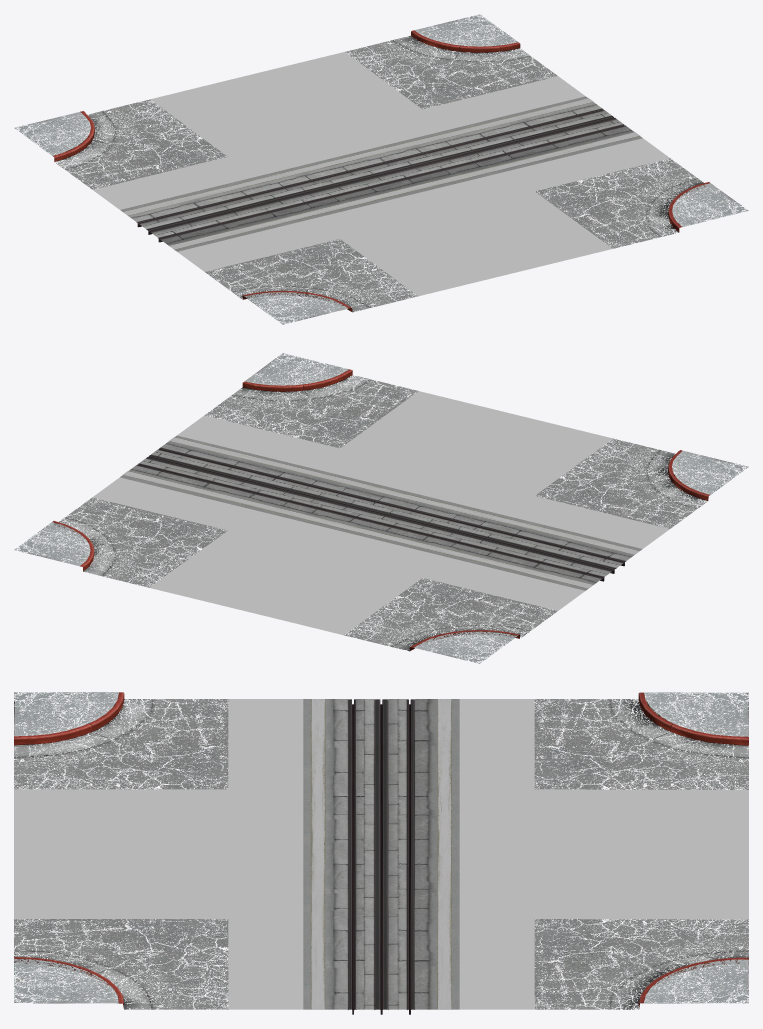
The model's file is RoadRail_Cross.obj.
3 renders of one model, top to bottom at view 1: azimuth 30°, elevation 25°; view 2: azimuth 150°, elevation 25°; view 3: azimuth 270°, elevation 25°, orthographic. The views are drawn at different scales.
Parts seen in each view (by area): view 1: RoadRail_Cross; view 2: RoadRail_Cross; view 3: RoadRail_Cross.
Part boxes in pixels (bbox=[...]): RoadRail_Cross: bbox=[14, 14, 748, 324]; RoadRail_Cross: bbox=[14, 353, 748, 663]; RoadRail_Cross: bbox=[14, 692, 748, 1014].
Size of the model in its own units: 20.01 by 0.35 by 20.
